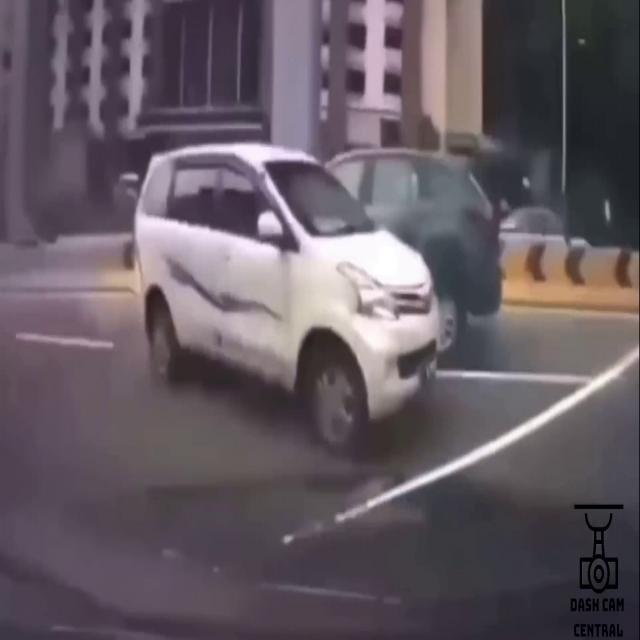accident: (135, 141, 505, 418)
